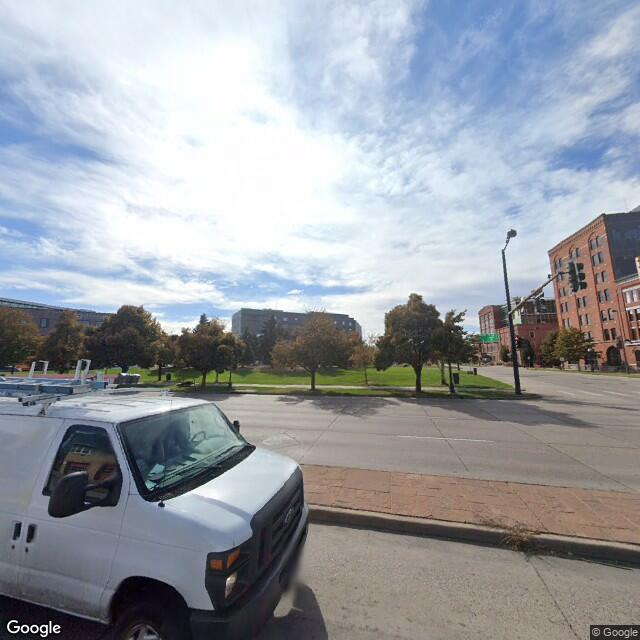lamp: (498, 226, 535, 391)
